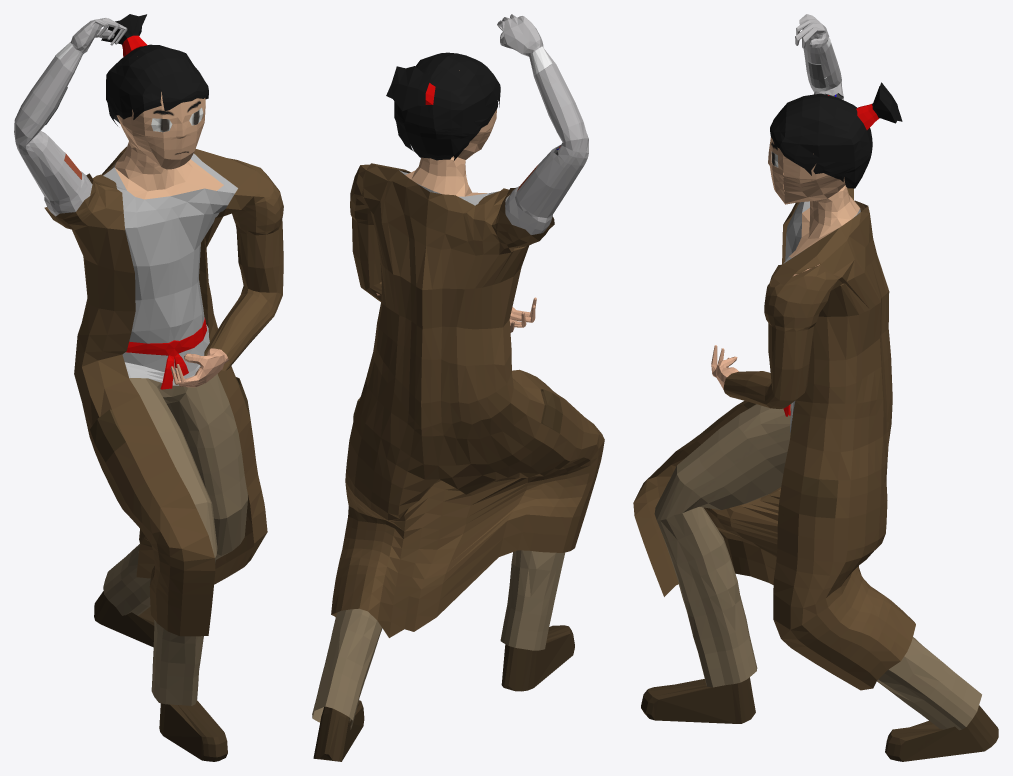
The model's file is Special_Attack_000015.obj.
3 views of the same model, side by side, from view 1: azimuth 30°, elevation 25°; view 2: azimuth 150°, elevation 25°; view 3: azimuth 270°, elevation 25° (orthographic). The views are drawn at different scales.
Parts seen in each view (by area): view 1: Hair_Cube.004; view 2: Hair_Cube.004; view 3: Hair_Cube.004.
Part boxes in pixels (left/top/right/bottom): Hair_Cube.004: left=14, top=14, right=283, bottom=761; Hair_Cube.004: left=312, top=14, right=604, bottom=761; Hair_Cube.004: left=633, top=14, right=998, bottom=761.
Size of the model in its own units: 1.39 by 3.74 by 1.81.
